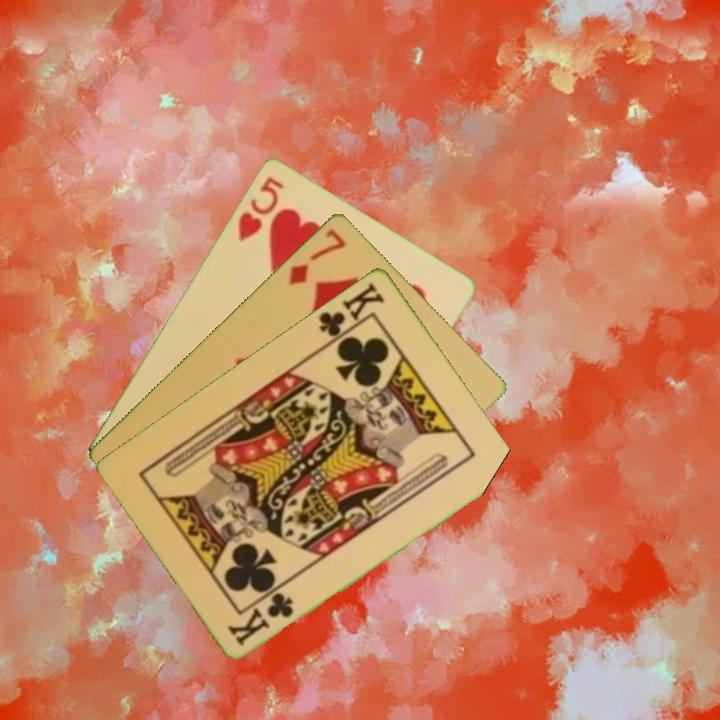5h: (234, 172, 287, 244)
7d: (285, 224, 349, 288)
Kc: (315, 278, 388, 347), (225, 588, 297, 649)
